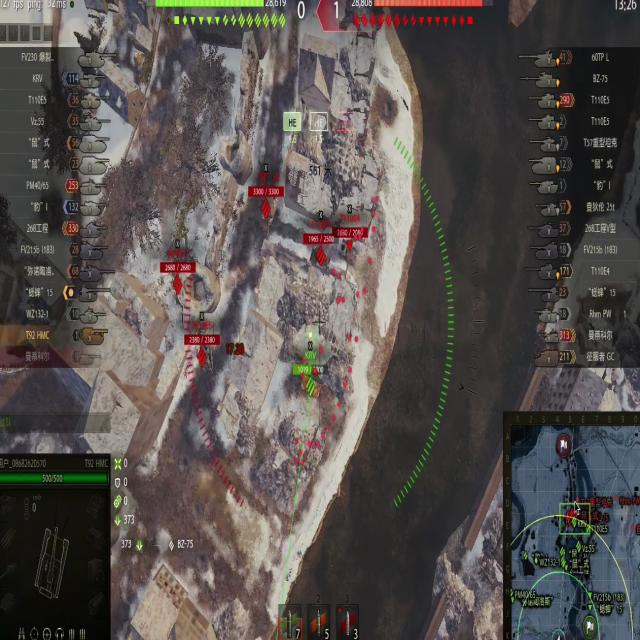tank: (182, 333, 226, 372), (159, 263, 191, 311), (250, 187, 278, 240), (303, 228, 333, 273), (337, 226, 368, 264)
